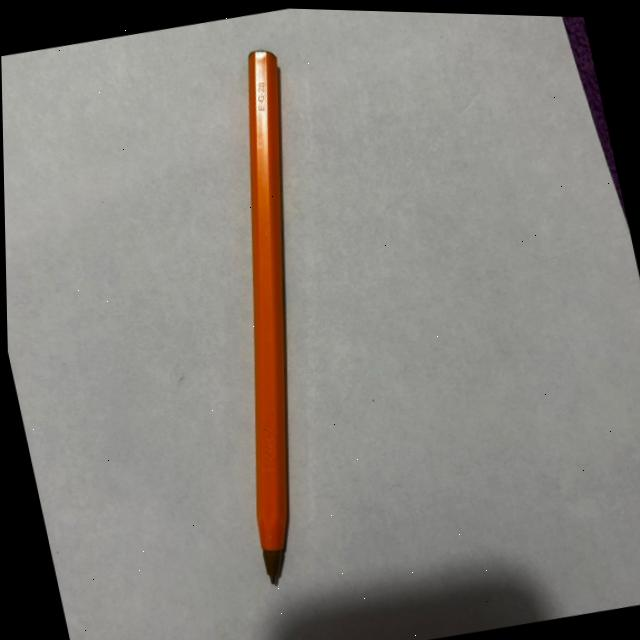pencil: (247, 49, 288, 584)
